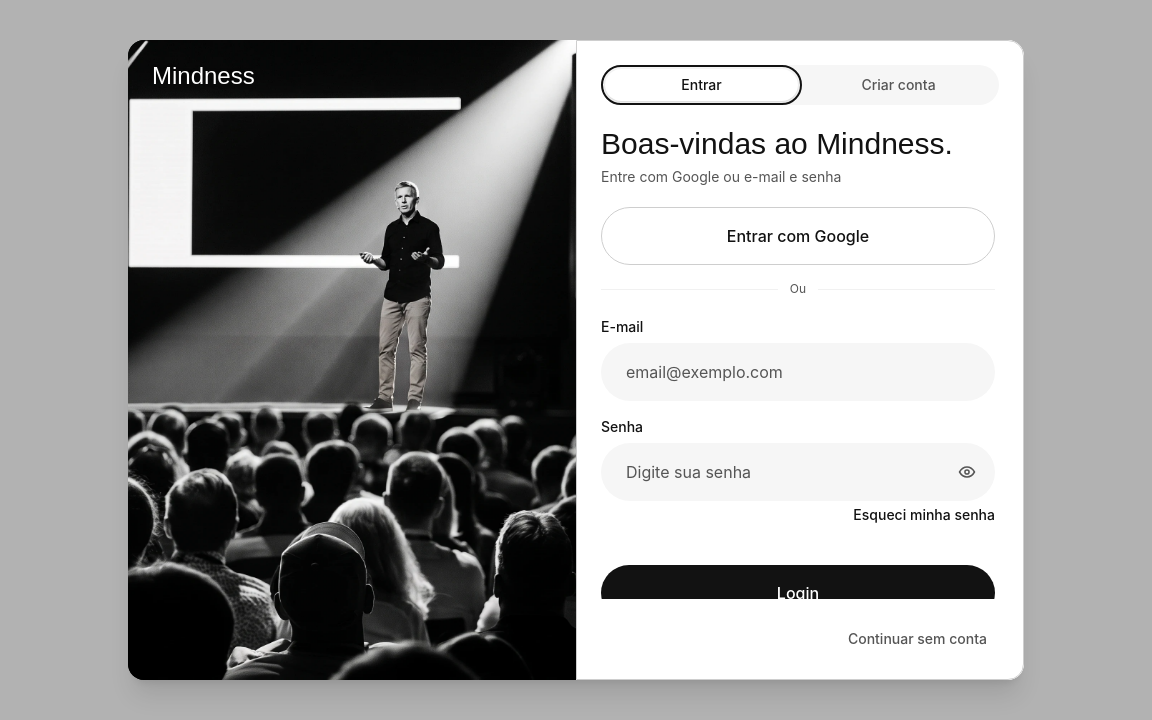
AuthenticationDialog › switches to account creation with one password field and its requirements
This screenshot has width=1152, height=720.
Click the tab "Criar conta" at x=898, y=85, box [802,69,995,101]
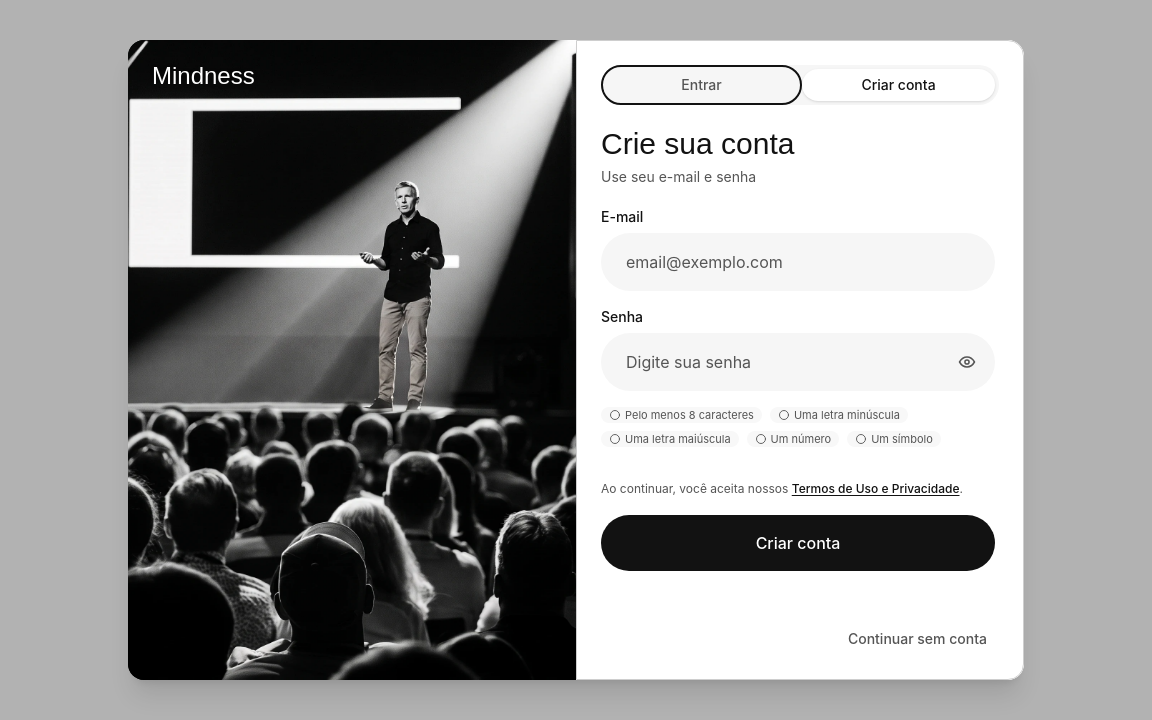
Check: the heading with test id "authentication-dialog-sign-up-welcome" reads "Crie sua conta", box [601,129,794,160]
Check: the field labelled "E-mail" is shown, box [601,233,995,291]
Check: the password field labelled "Senha" is shown, box [601,333,995,391]
